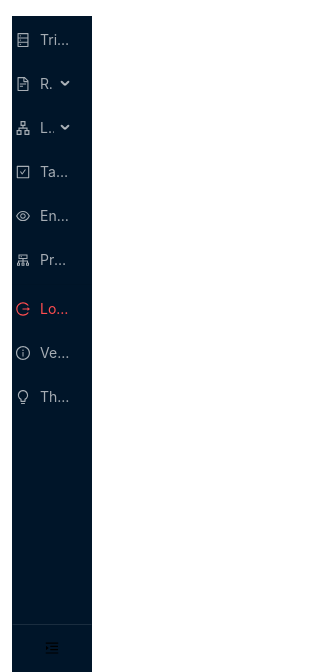
it: LeftSideMenu › Collapsed Submenu Behavior › should show submenu items inline when collapsed and submenu is opened
The image size is (332, 672).
Expected: the menu item "Reporting" is shown, [16,75,92,92]
// Click to open submenu
Click the menu item "Reporting". click: (60, 84)
box: [16,75,104,92]
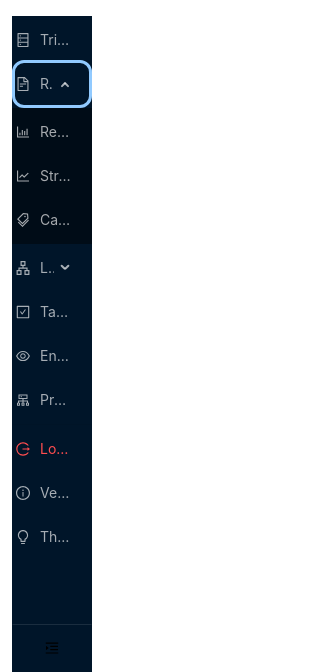
Expected: the menu is shown, [12,108,92,244]
